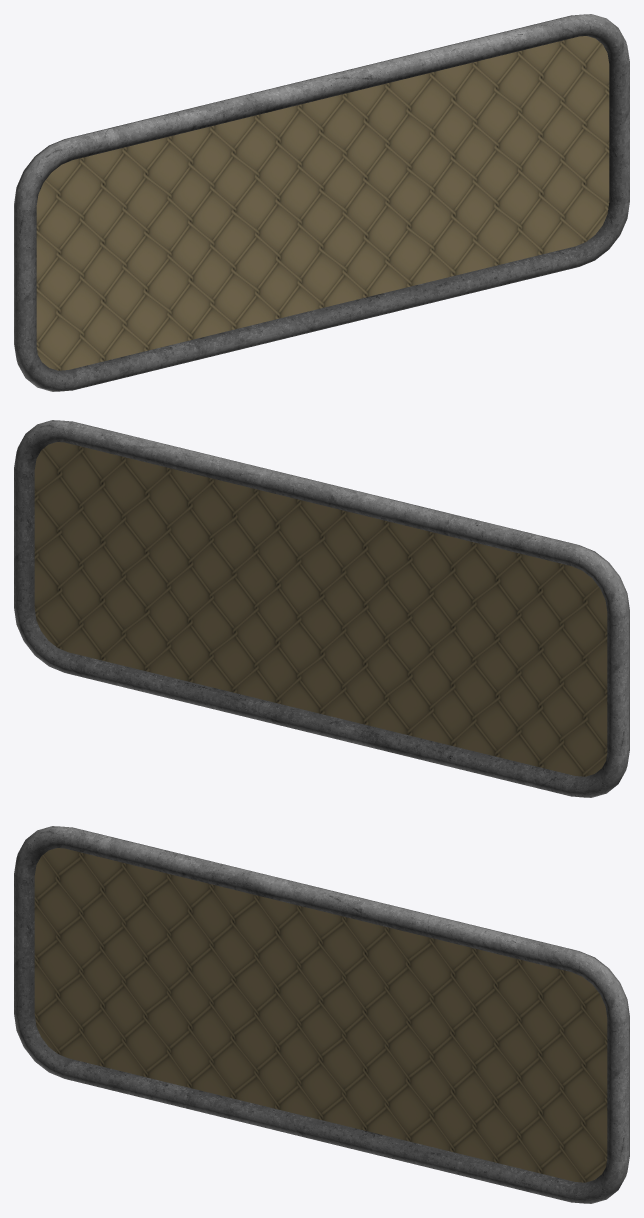
File: fencing_round_rectangle.dae
3 views of the same model, one above another, from view 1: azimuth 30°, elevation 25°; view 2: azimuth 150°, elevation 25°; view 3: azimuth 330°, elevation 25° (orthographic).
Visible parts, largest first — view 1: polySurface24, polySurface18; view 2: polySurface24, polySurface18; view 3: polySurface24, polySurface18.
Part boxes in pixels (bbox=[...]): polySurface24: bbox=[36, 36, 609, 370]; polySurface18: bbox=[14, 14, 629, 391]; polySurface24: bbox=[34, 442, 607, 776]; polySurface18: bbox=[14, 420, 629, 797]; polySurface24: bbox=[34, 848, 607, 1182]; polySurface18: bbox=[14, 826, 629, 1203].
Bounding box in the file's own units: 225 × 88.15 × 7.42.
